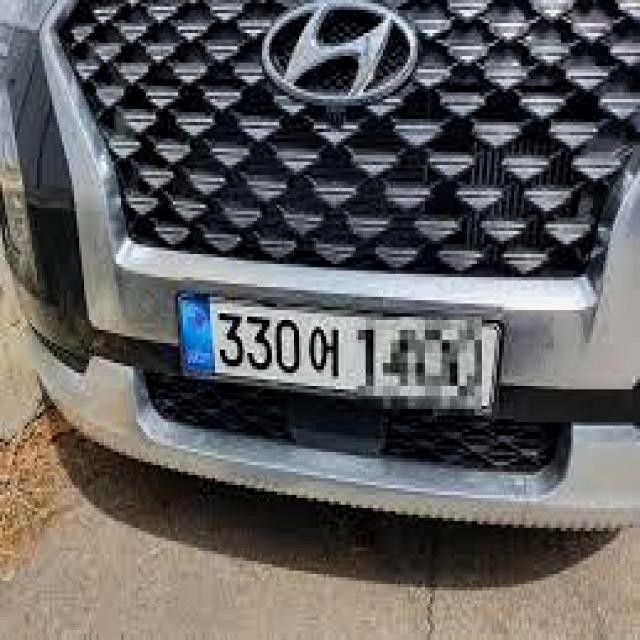illegal_plate: (181, 287, 503, 416)
